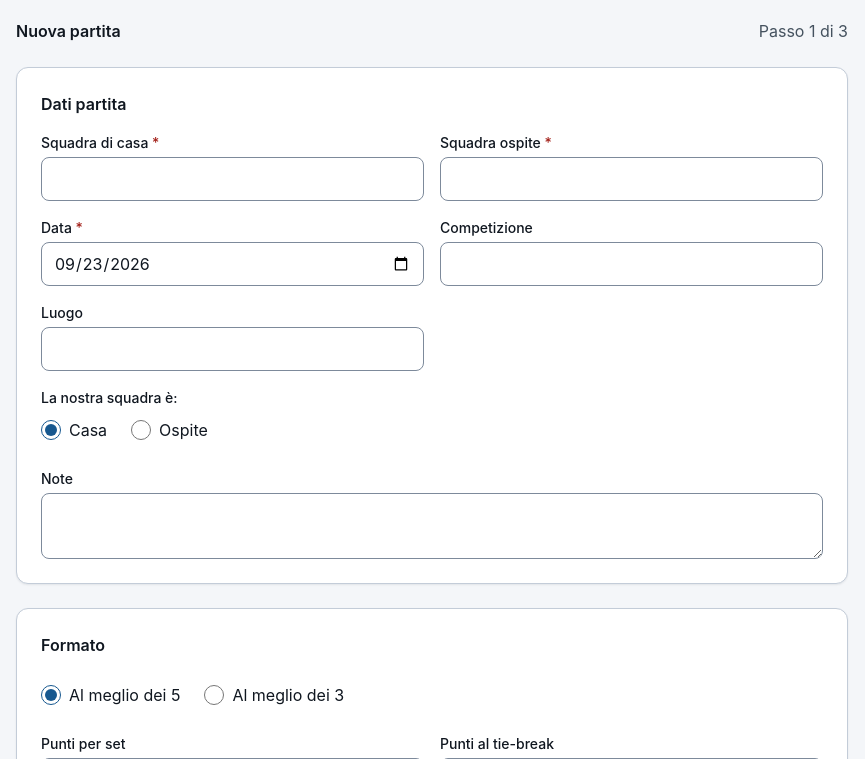
Test case: NewMatchPage › blocks submission and shows an inline error when the opponent name is empty
The width and height of the screenshot is (865, 759).
Type "Reale Vicenza" into the field labelled "Squadra di casa *". click: [232, 179]
box: [41,157,424,201]
(page scrolled)
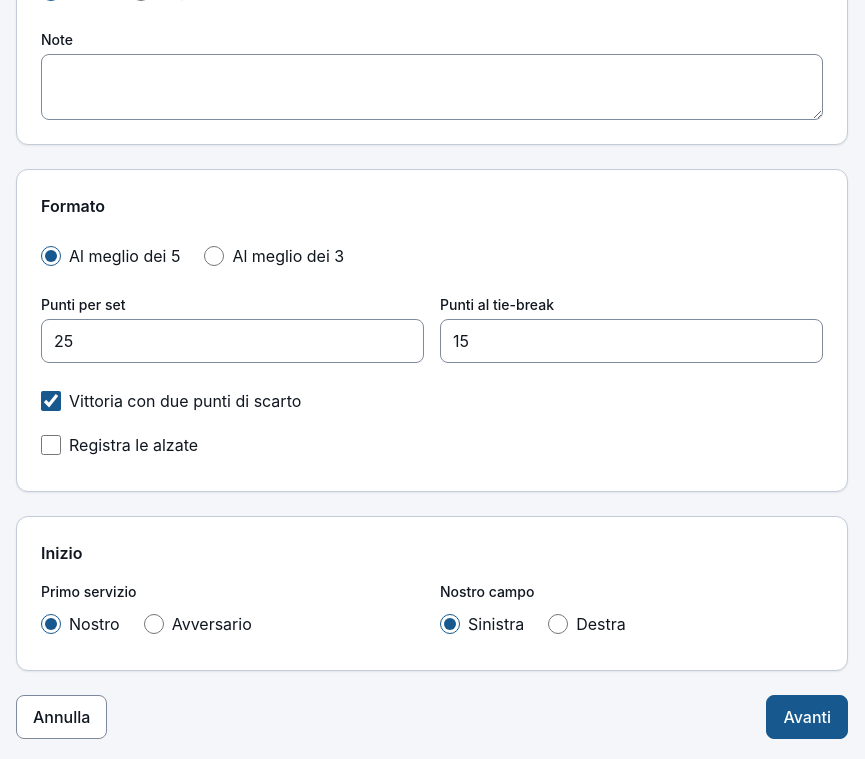
Click the button "Avanti". click: [807, 717]
box: [766,695,848,739]
(page scrolled)
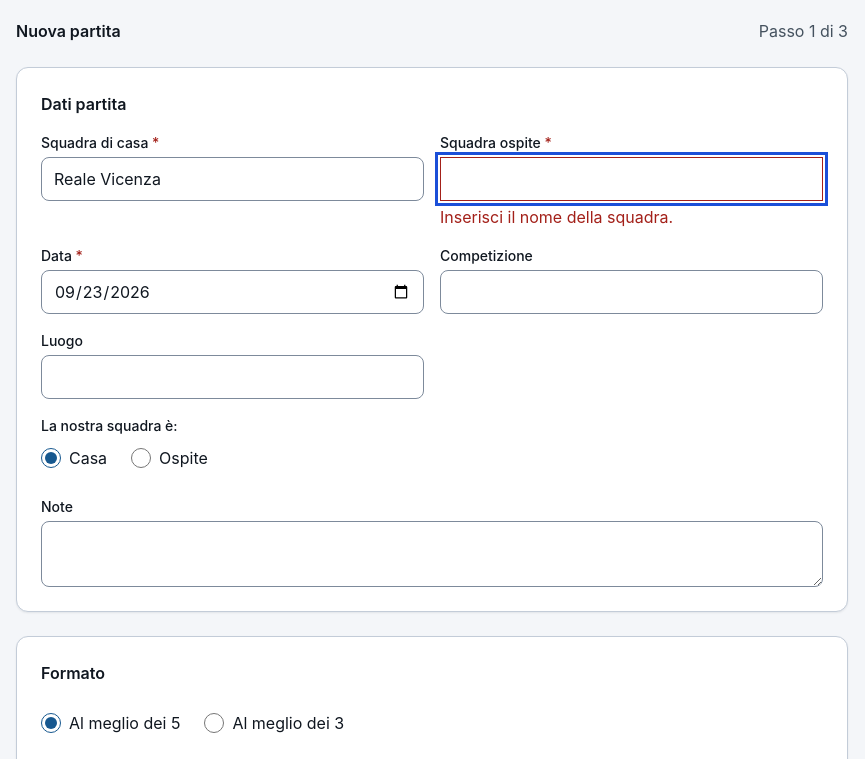
Expected: the text "Inserisci il nome della squadra." is shown, [440,207,673,227]
